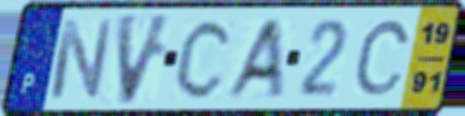2: (295, 17, 354, 100)
A: (220, 16, 286, 102)
C: (172, 16, 236, 102), (352, 17, 414, 98)
N: (46, 17, 116, 102)
V: (115, 10, 177, 108)
